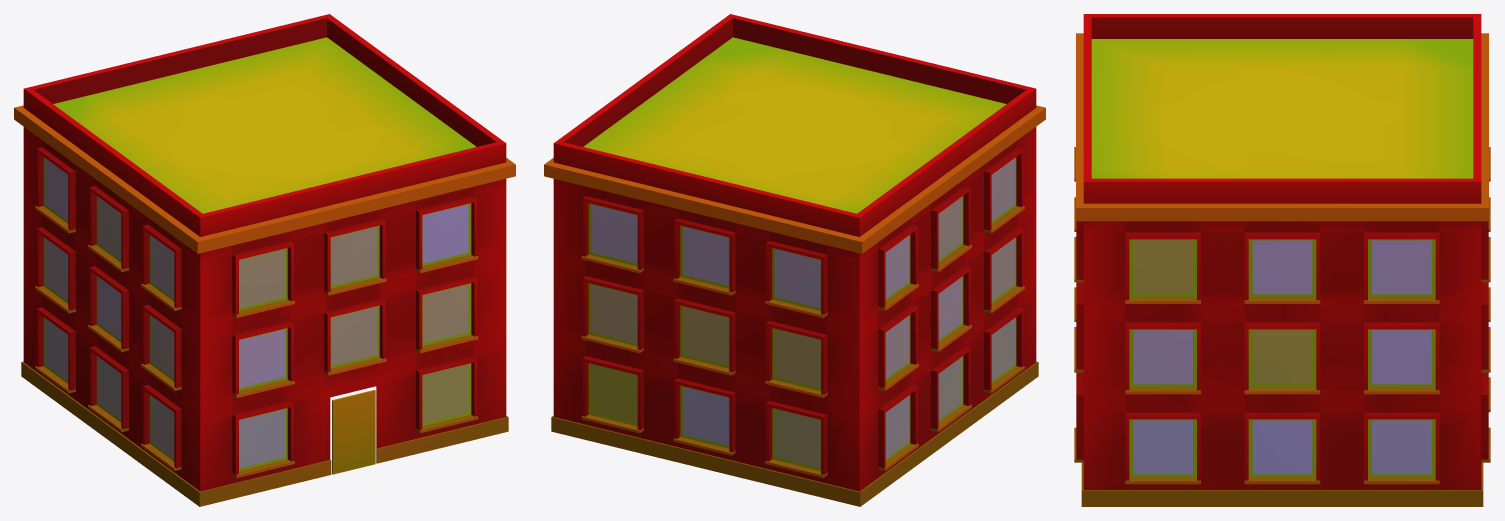
Rendered from generic.glb.
The picture shows the model from 3 angles, left to right: view 1: azimuth 30°, elevation 25°; view 2: azimuth 150°, elevation 25°; view 3: azimuth 270°, elevation 25°; orthographic projection. The views are drawn at different scales.
Parts seen in each view (by area): view 1: generic__box__LOD0; view 2: generic__box__LOD0; view 3: generic__box__LOD0.
Part boxes in pixels (x1=…): generic__box__LOD0: x1=14, y1=14, x2=515, y2=506; generic__box__LOD0: x1=544, y1=14, x2=1045, y2=506; generic__box__LOD0: x1=1074, y1=14, x2=1490, y2=506.
Size of what is drawn, in the model's own units: 10.48 by 9 by 10.48.
